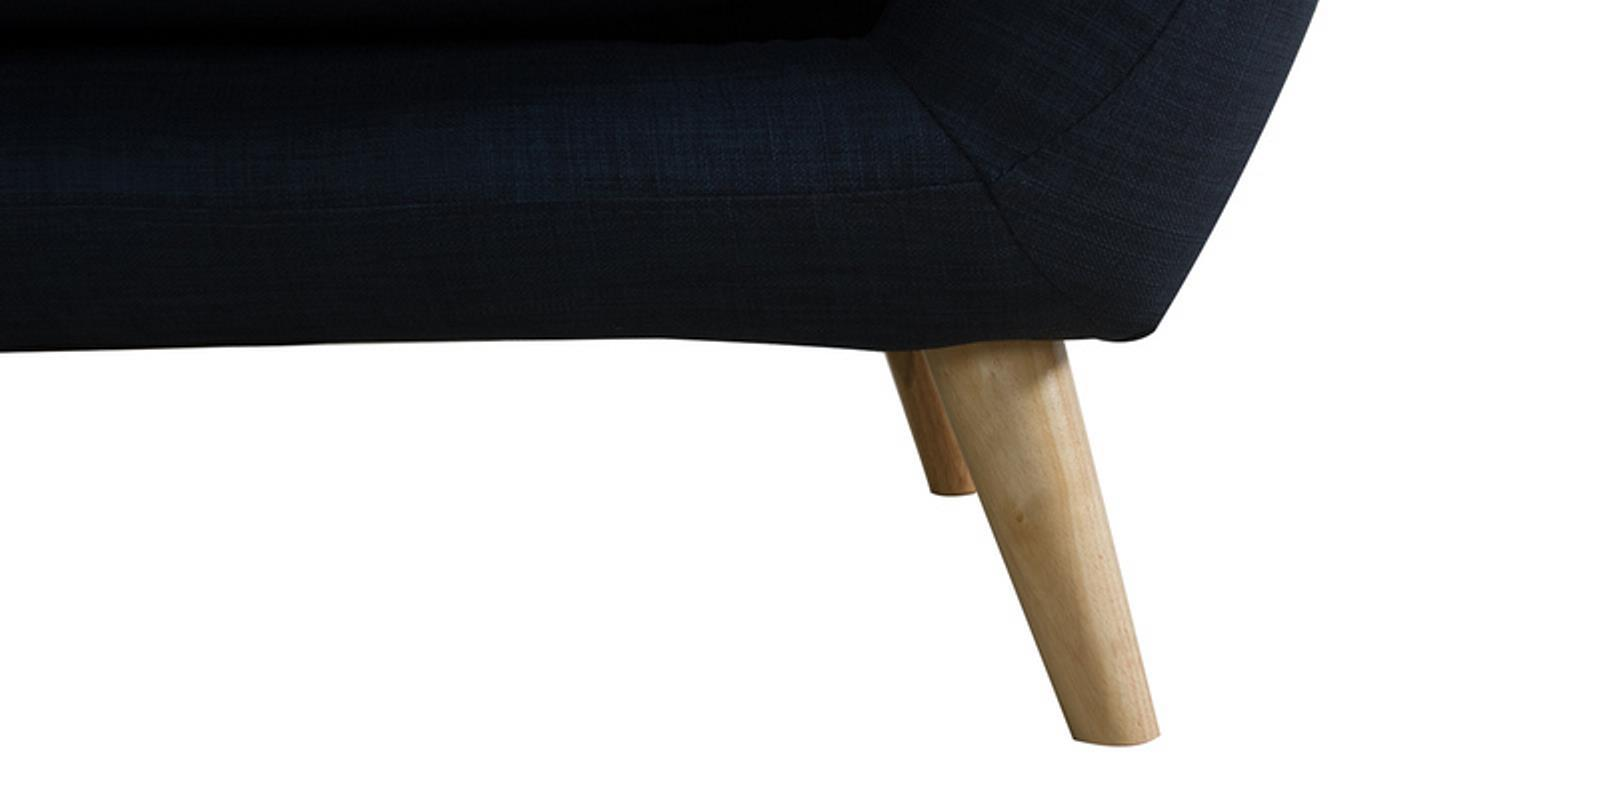Managua Three Seater Sofa in Blue Colour by CasaCraft: (1, 1, 1323, 744)
